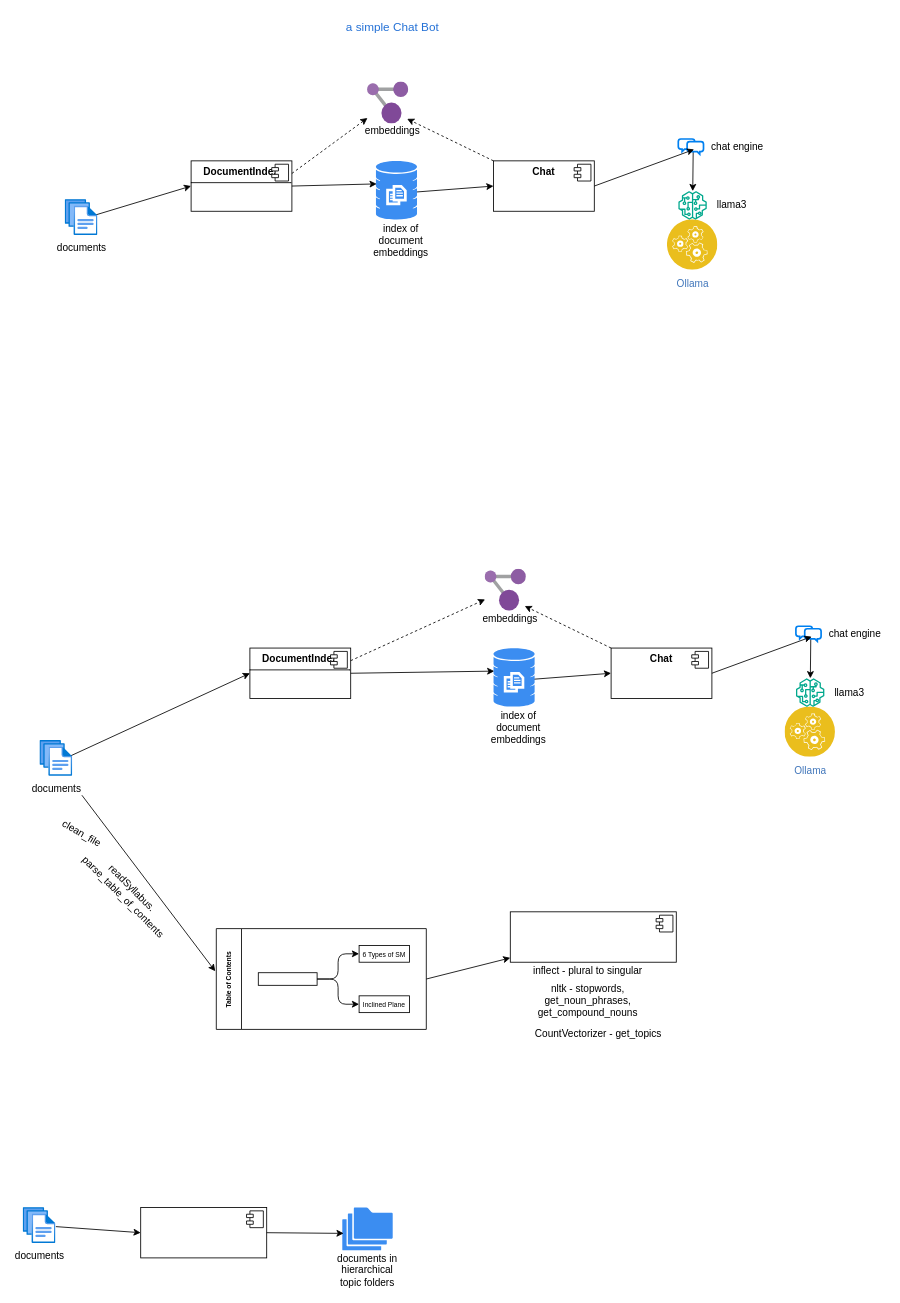
This 900x1303 diagram has some shape labels left out. Each missing label, with the box of its shape:
nouns, compound nouns, hierarchy with order: (509, 911, 676, 962)
Simple Machines: (257, 972, 317, 985)
topic modeling: (140, 1207, 267, 1258)
